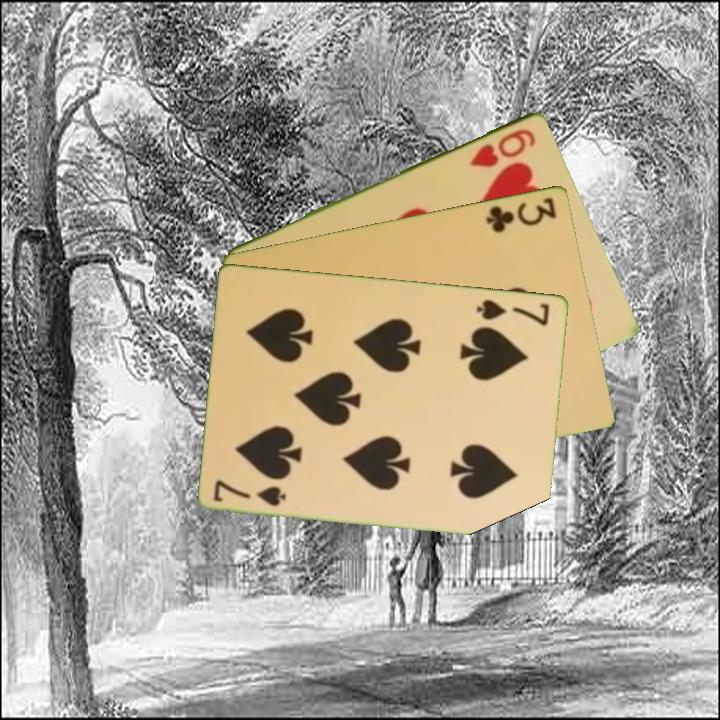3c: (482, 193, 559, 235)
6h: (466, 124, 539, 170)
7s: (473, 295, 553, 328), (211, 476, 290, 509)
